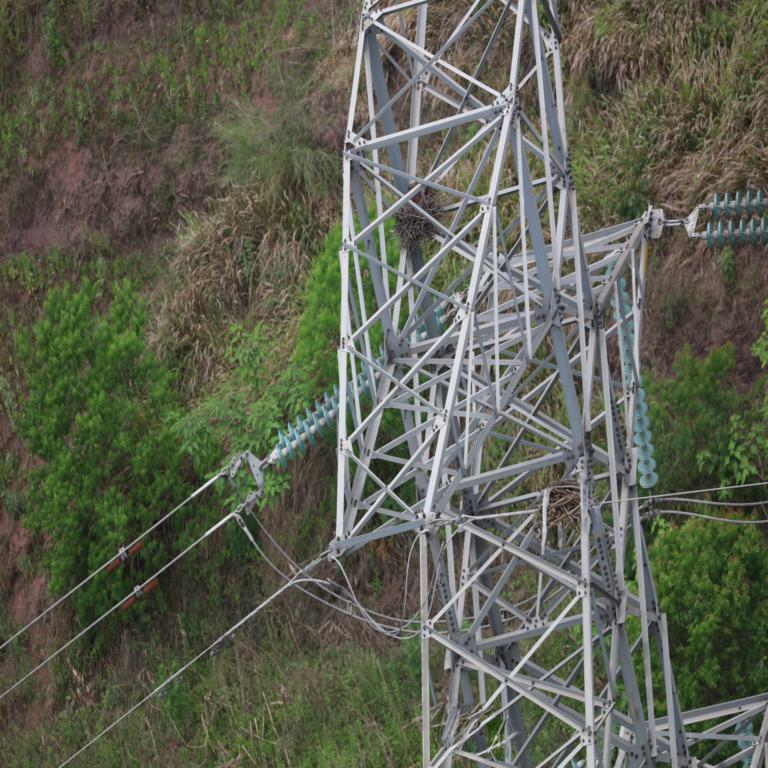nest: (393, 186, 442, 253), (535, 479, 586, 537)
